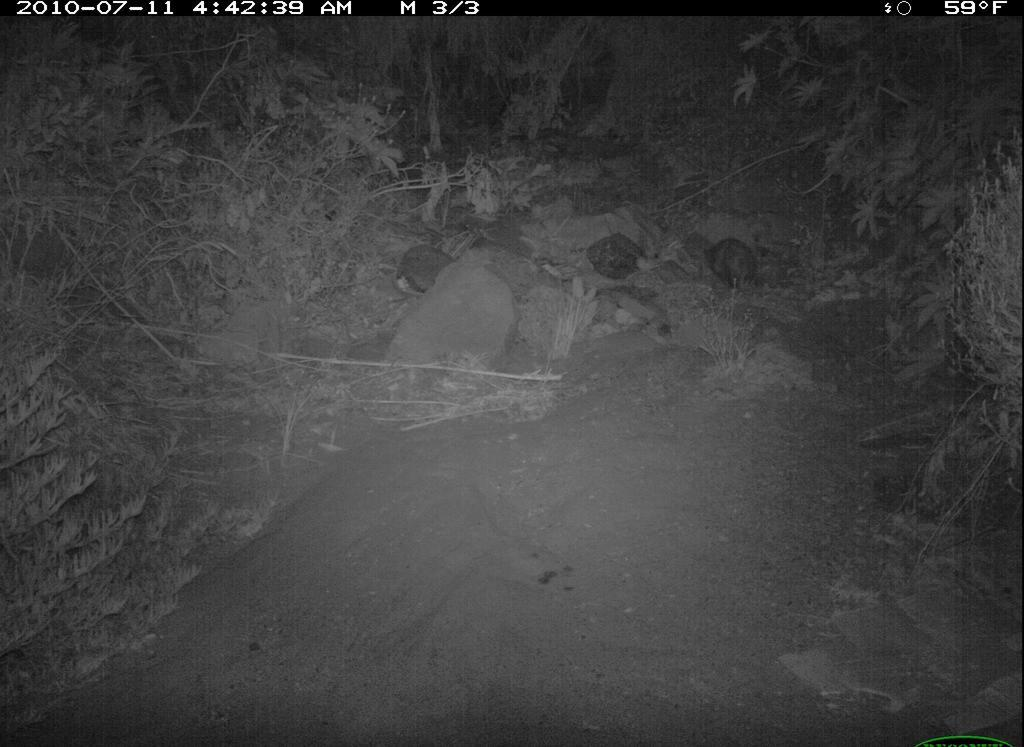opossum: (688, 228, 785, 318)
